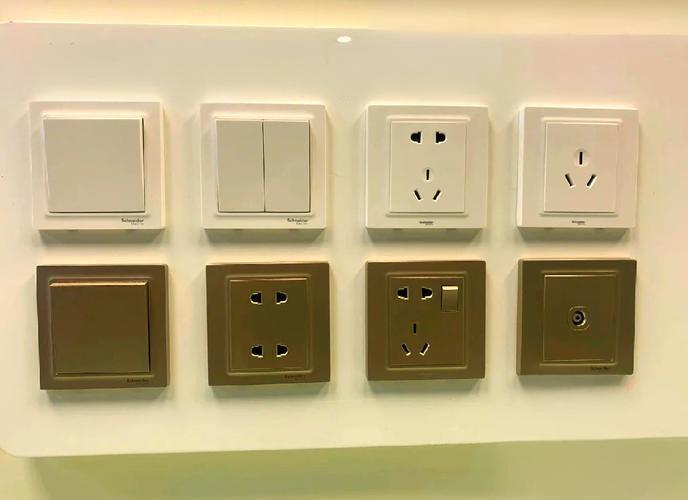button: (27, 98, 164, 229), (35, 264, 172, 391), (197, 100, 328, 228), (363, 260, 489, 382)
